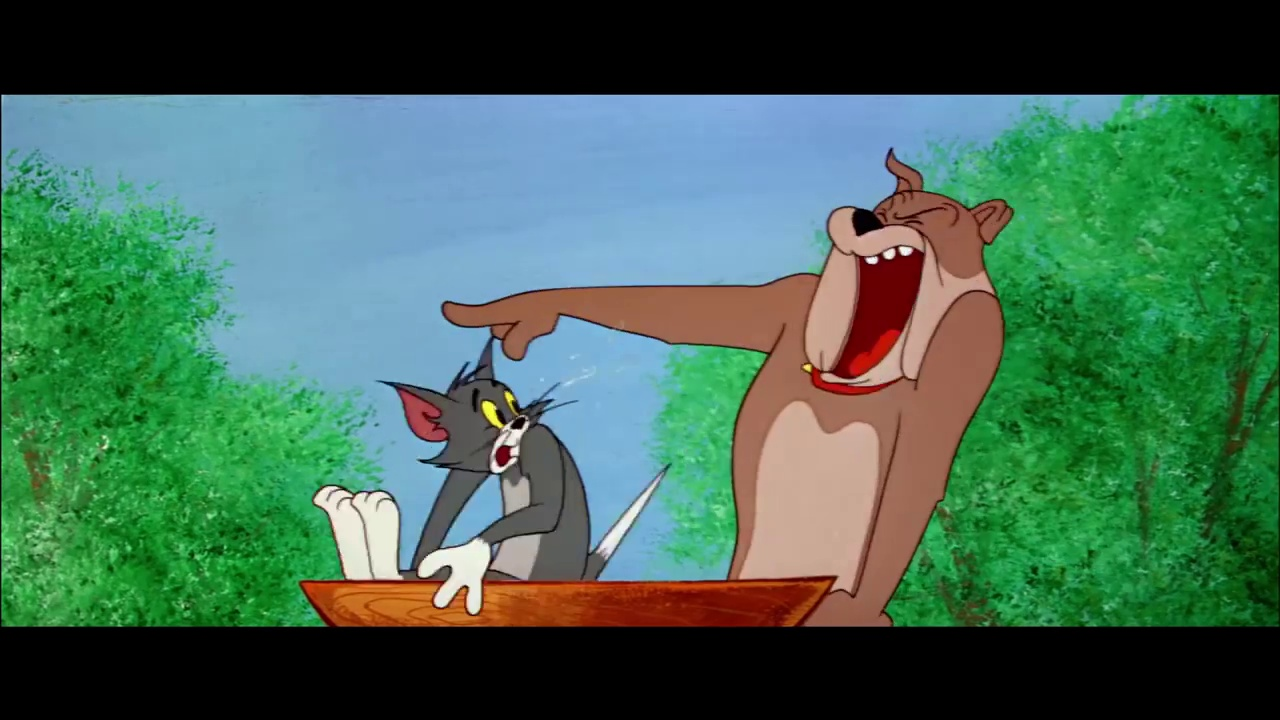spike: (803, 144, 1003, 395)
tom: (377, 335, 548, 475)
